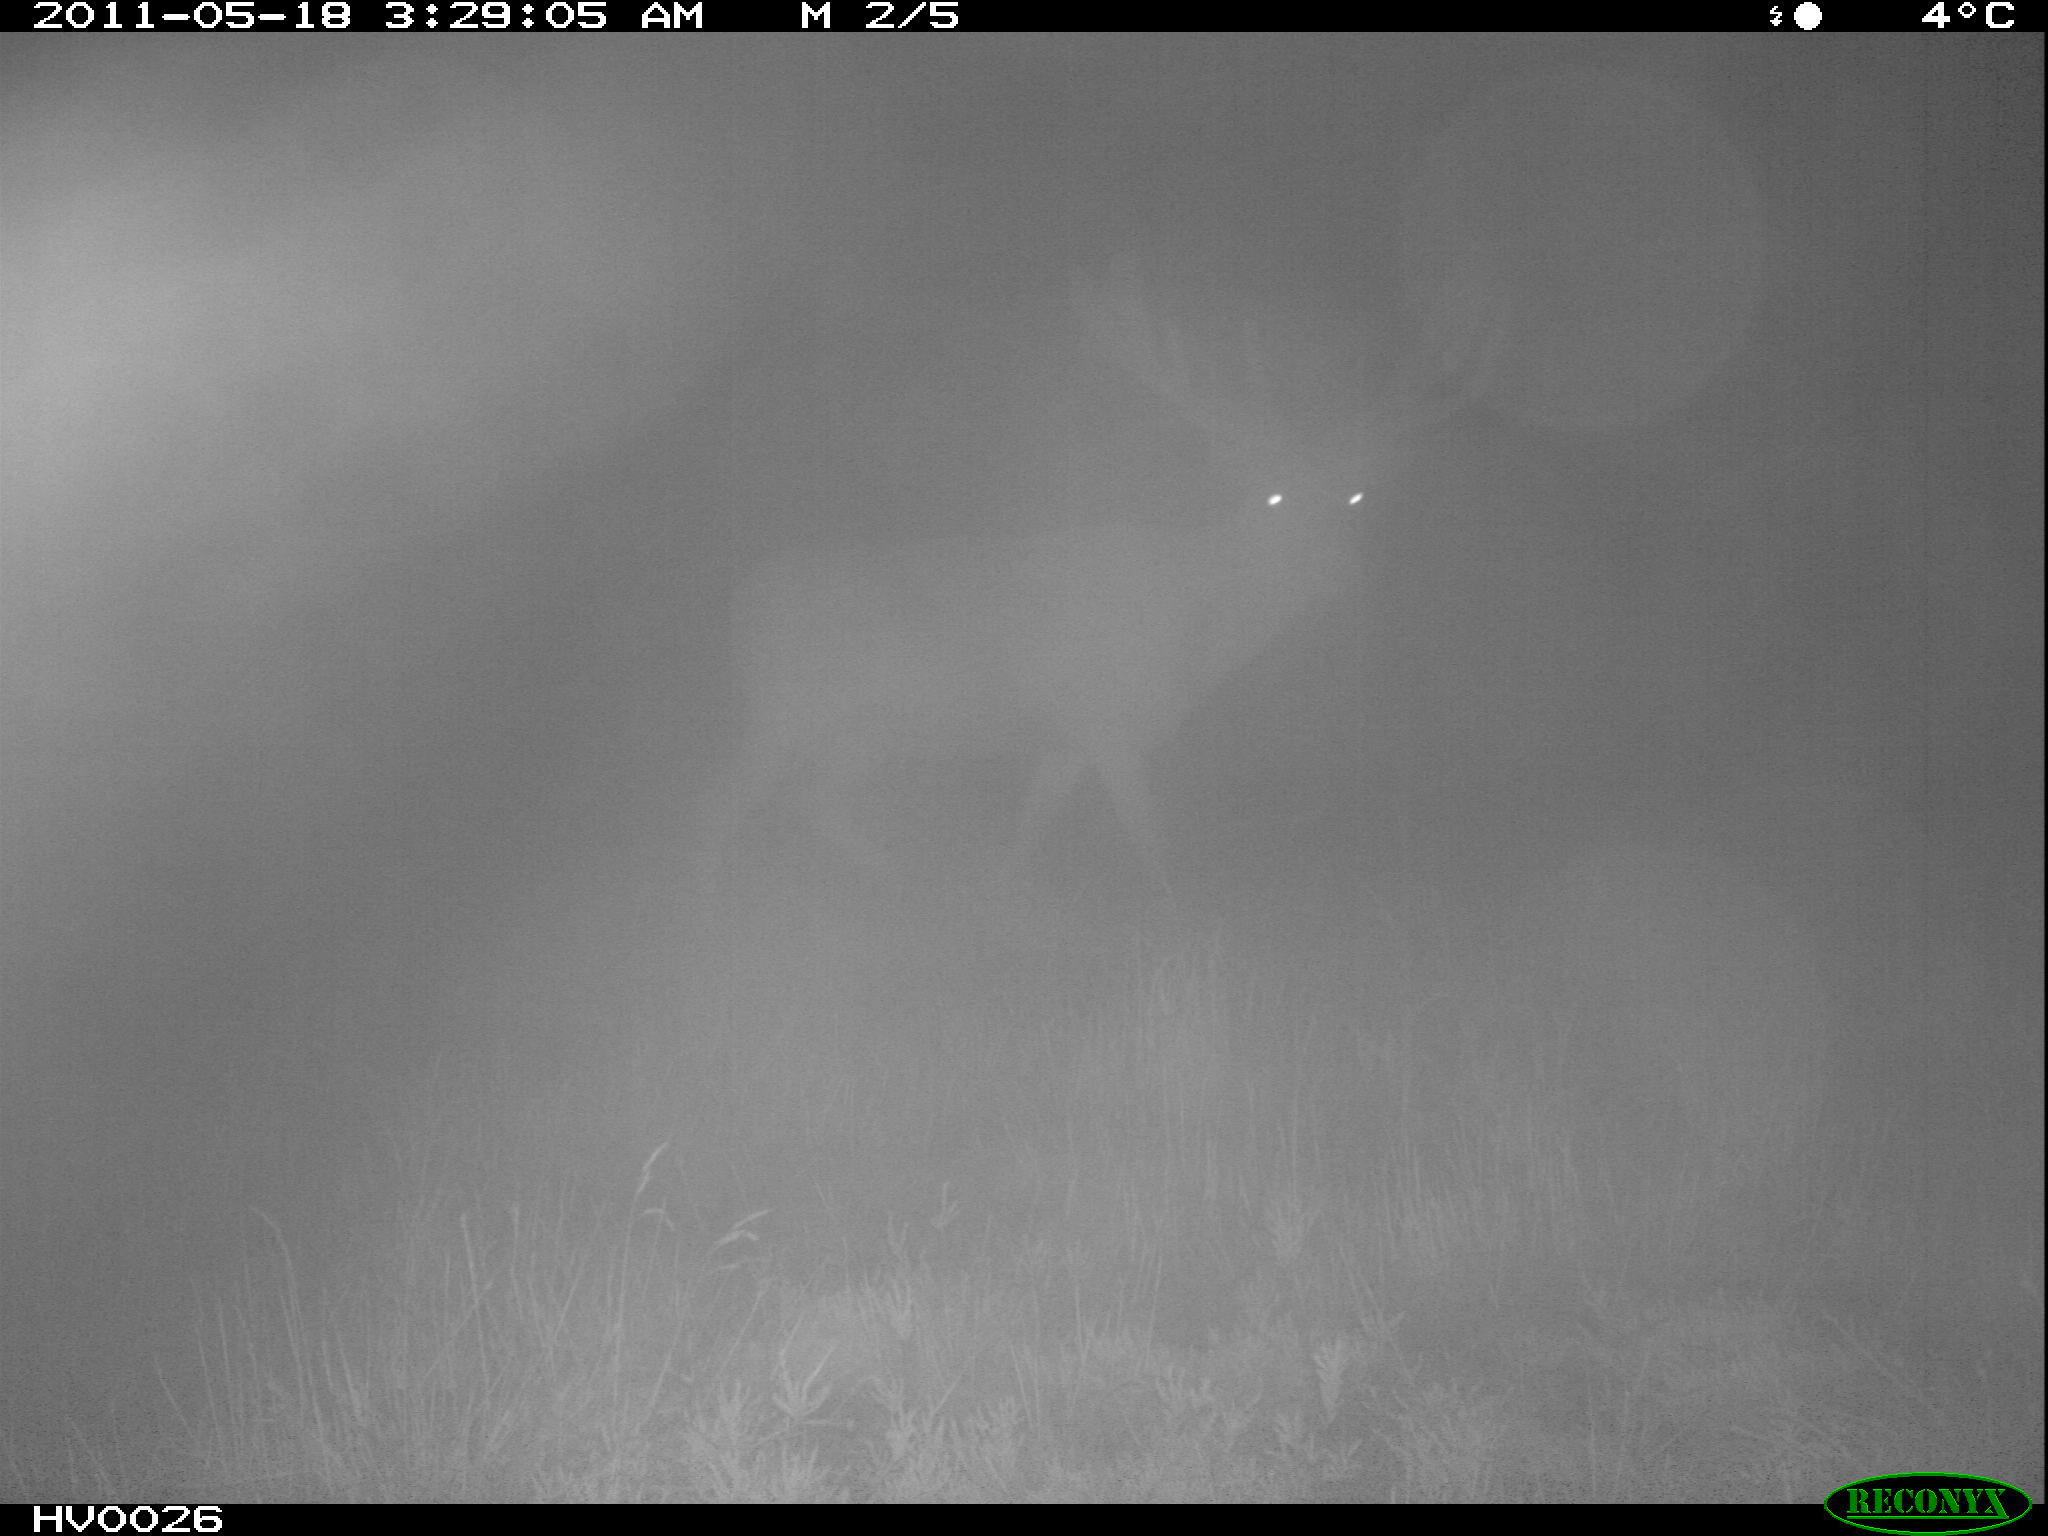Deer: (663, 223, 1545, 987)
